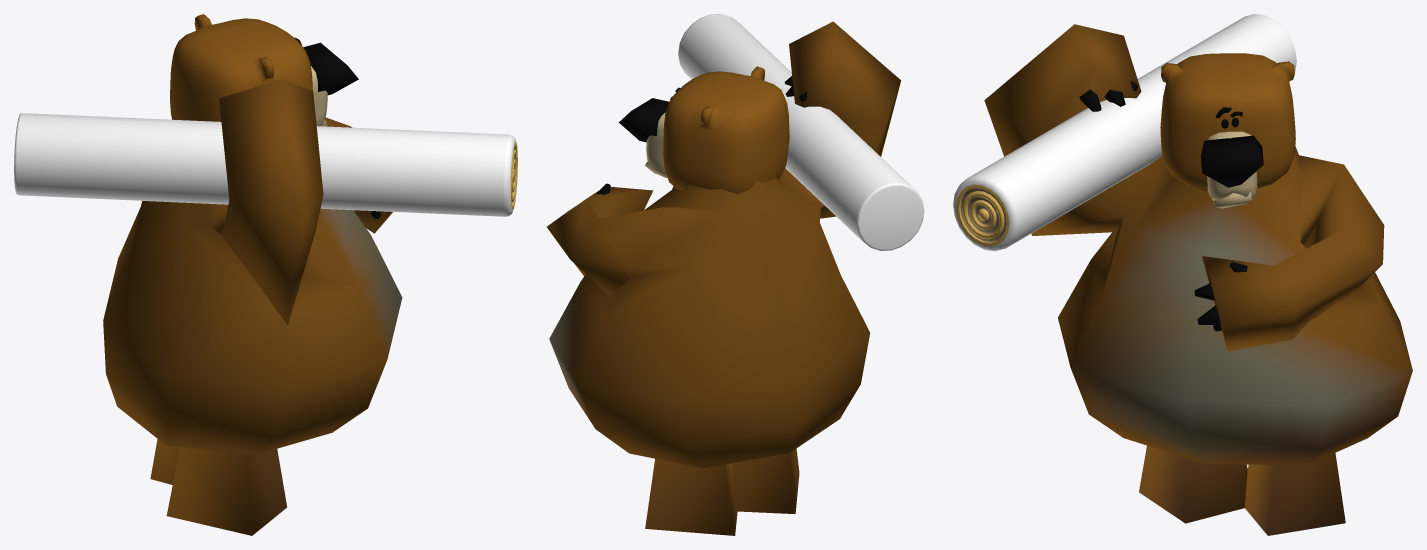
The model's file is bear1.glb.
3 renders of one model, left to right at view 1: azimuth 30°, elevation 25°; view 2: azimuth 150°, elevation 25°; view 3: azimuth 270°, elevation 25°, orthographic. The views are drawn at different scales.
Visible parts, largest first — view 1: Cube.067, Cylinder.056, bear1, Cube.064; view 2: Cube.067, Cylinder.056, bear1, Cube.064, Cube.063; view 3: Cube.067, Cylinder.056, bear1, Cube.064, Cube.063.
Boxes of the visible parts, x1=… form: Cube.067: x1=103, y1=79, x2=402, y2=535; Cylinder.056: x1=14, y1=113, x2=517, y2=216; bear1: x1=170, y1=14, x2=312, y2=121; Cube.064: x1=303, y1=42, x2=358, y2=95; Cube.067: x1=547, y1=21, x2=900, y2=535; Cylinder.056: x1=678, y1=14, x2=924, y2=250; bear1: x1=663, y1=66, x2=789, y2=194; Cube.064: x1=619, y1=98, x2=669, y2=142; Cube.063: x1=646, y1=112, x2=667, y2=177; Cube.067: x1=984, y1=24, x2=1412, y2=535; Cylinder.056: x1=953, y1=14, x2=1296, y2=251; bear1: x1=1160, y1=53, x2=1295, y2=190; Cube.064: x1=1200, y1=135, x2=1263, y2=187; Cube.063: x1=1207, y1=131, x2=1257, y2=200.
Size of the model in its own units: 0.8812 by 1.02 by 0.9027.
